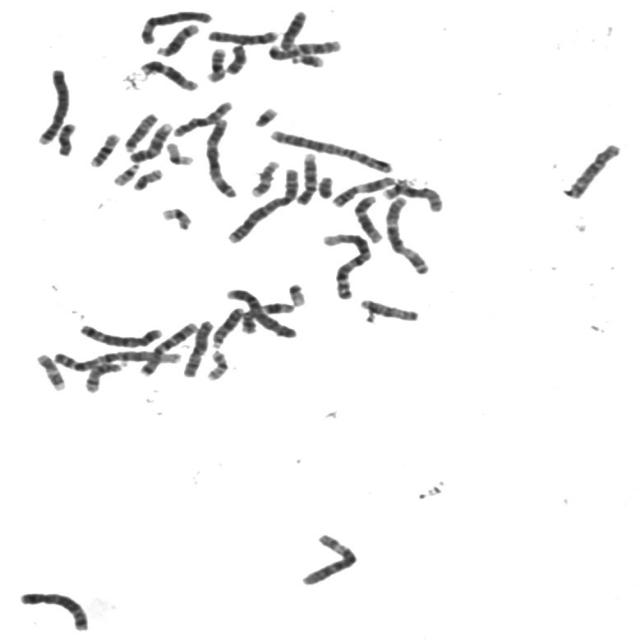A1: (317, 228, 376, 301), (47, 344, 186, 373)
A2: (265, 124, 396, 174), (224, 162, 302, 245)
A3: (381, 192, 434, 275), (201, 114, 241, 199)
B4: (222, 284, 300, 339), (33, 62, 72, 146)
B5: (15, 586, 93, 633), (76, 319, 166, 348)
C10: (554, 142, 619, 204), (169, 96, 237, 138)
C11: (328, 170, 398, 208), (238, 298, 298, 334)
C12: (136, 55, 202, 92), (350, 190, 387, 244)
C6: (296, 528, 362, 587), (137, 5, 216, 46)
C7: (136, 318, 200, 378), (265, 34, 345, 60)
C8: (387, 178, 450, 213), (203, 25, 283, 45)
C9: (126, 118, 176, 164), (294, 148, 320, 206)
D13: (208, 302, 246, 349), (277, 5, 310, 52)
D14: (153, 19, 202, 58), (81, 358, 128, 393)
D15: (356, 294, 422, 323), (121, 108, 162, 153)
E16: (85, 128, 124, 168), (202, 44, 229, 84)
E17: (32, 348, 68, 392), (246, 156, 282, 198)
E18: (52, 119, 79, 157), (222, 40, 250, 75)
F19: (157, 203, 195, 231), (163, 138, 197, 166)
F20: (202, 346, 232, 382), (129, 165, 166, 191)
G21: (250, 102, 281, 128), (288, 49, 327, 69)
G22: (109, 159, 143, 187), (284, 278, 310, 307)
X: (179, 316, 216, 378)
Y: (315, 171, 336, 199)
